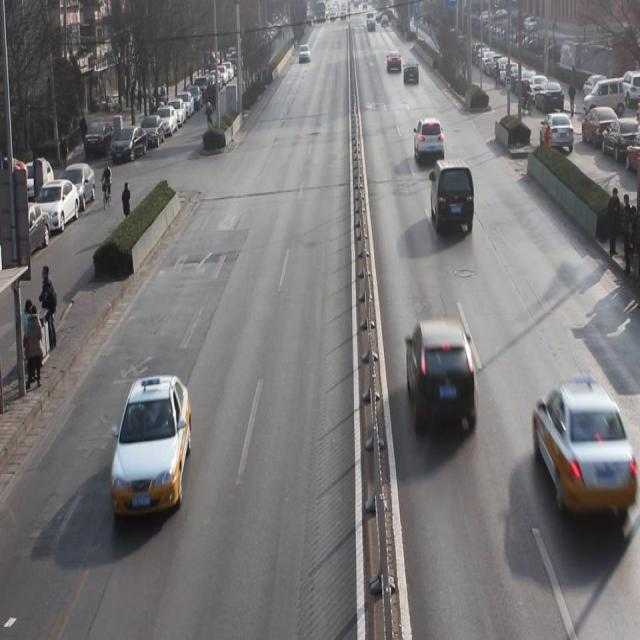car: (532, 388, 632, 530), (116, 369, 192, 526), (404, 323, 478, 438), (413, 116, 446, 168), (404, 58, 419, 89), (386, 52, 403, 76), (296, 42, 310, 66)
truck: (429, 160, 476, 238)
